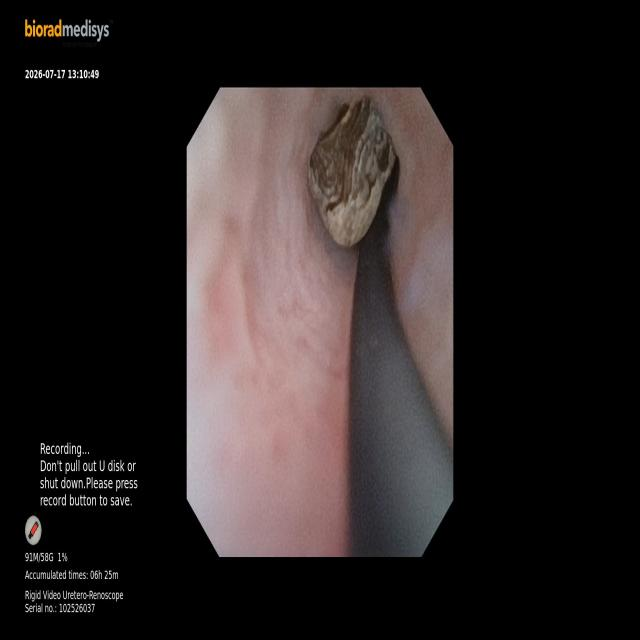stone-new: (309, 98, 396, 247)
